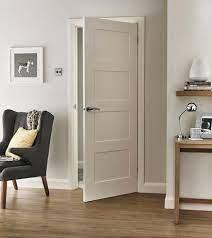chair: (2, 108, 52, 210)
door: (82, 16, 139, 203)
light: (178, 102, 200, 142)
table: (174, 136, 212, 229)
